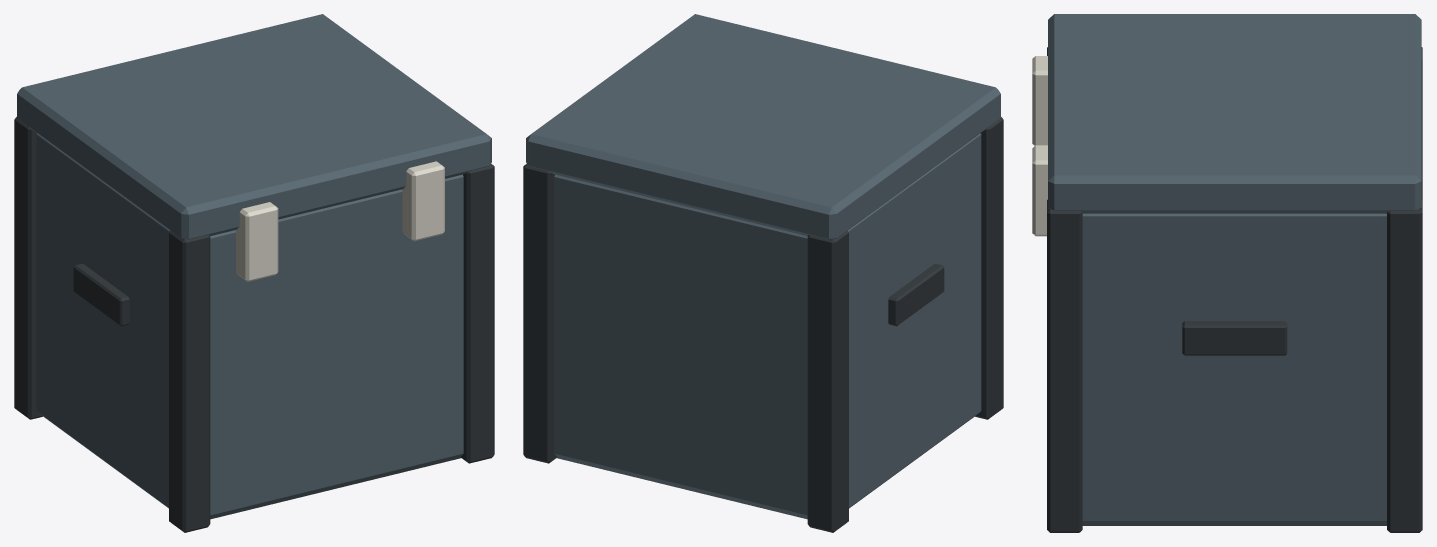
Rendered from BH_MetalCrate.glb.
The picture shows the model from 3 angles, left to right: view 1: azimuth 30°, elevation 25°; view 2: azimuth 150°, elevation 25°; view 3: azimuth 270°, elevation 25°; orthographic projection. The views are drawn at different scales.
Visible parts, largest first — view 1: BH_MetalCrate_RenderMesh; view 2: BH_MetalCrate_RenderMesh; view 3: BH_MetalCrate_RenderMesh.
Boxes of the visible parts, x1=… form: BH_MetalCrate_RenderMesh: x1=14, y1=14, x2=494, y2=532; BH_MetalCrate_RenderMesh: x1=523, y1=14, x2=1003, y2=532; BH_MetalCrate_RenderMesh: x1=1032, y1=14, x2=1422, y2=532.
Size of what is drawn, in the model's own units: 0.955 by 0.935 by 0.93.
